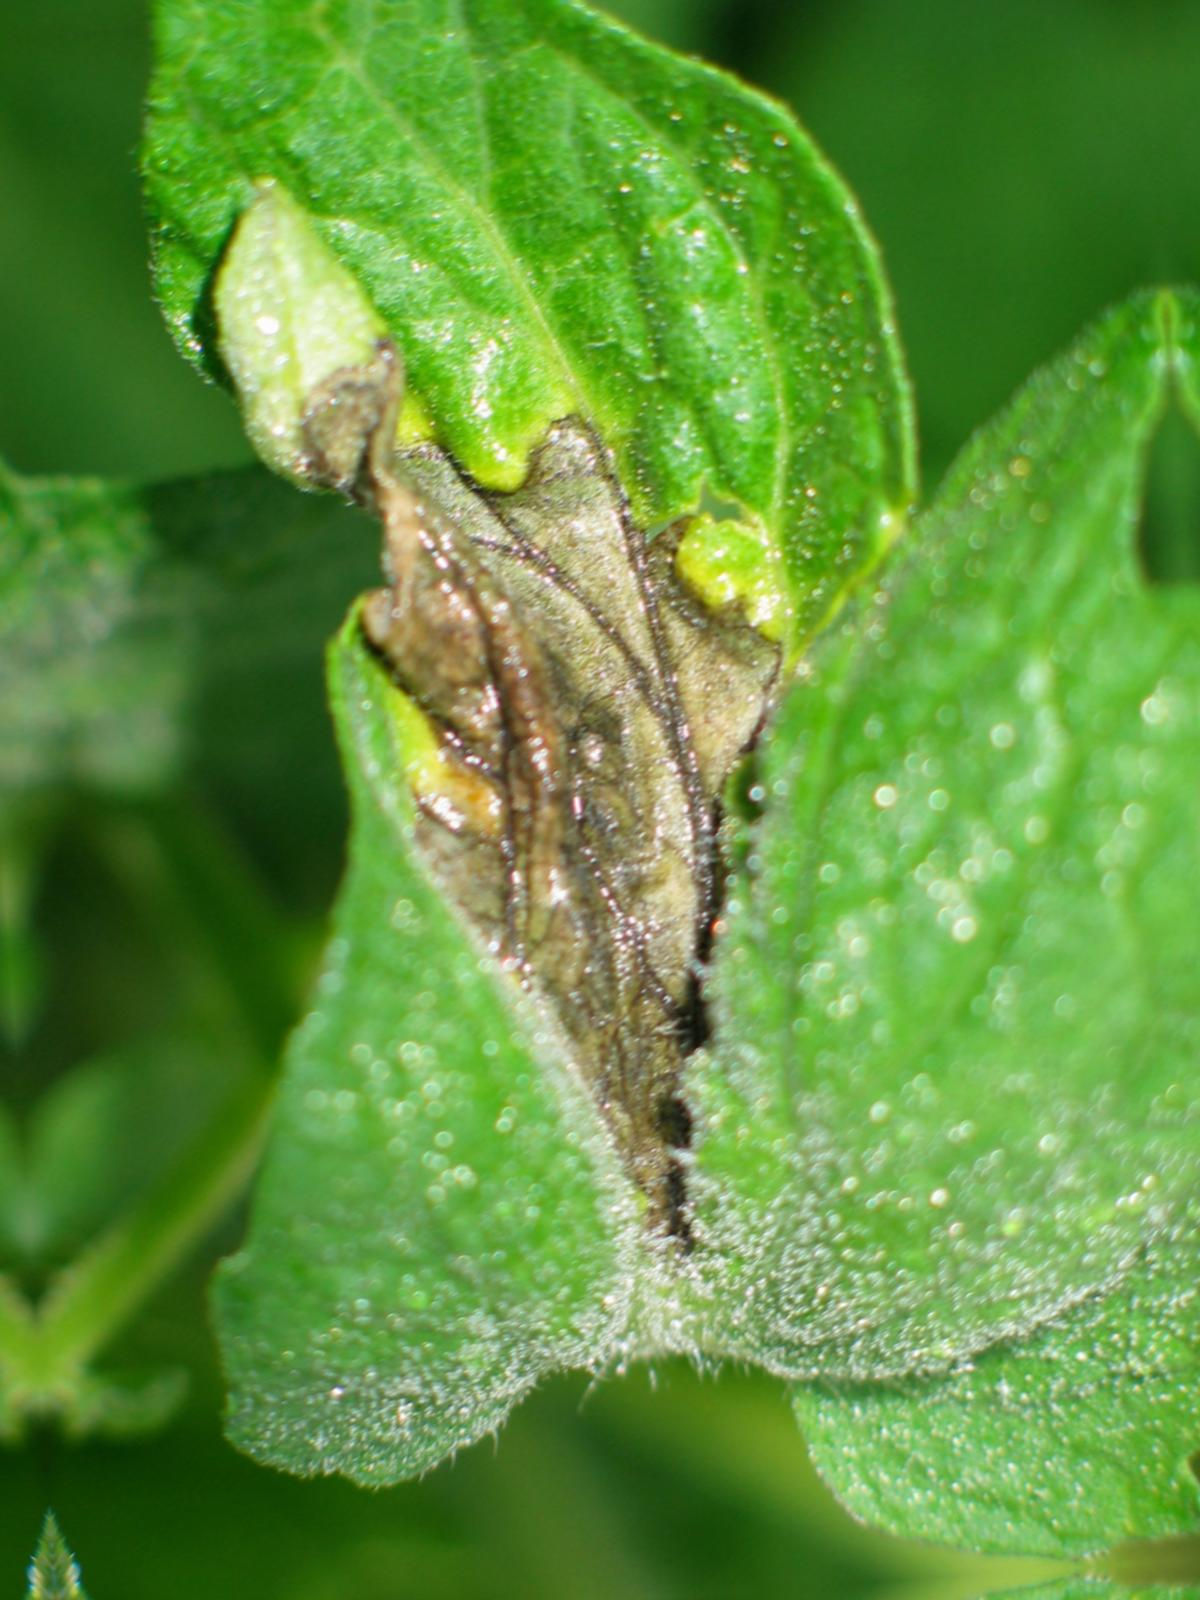Tomato leaf late blight: (78, 0, 1200, 1574)
